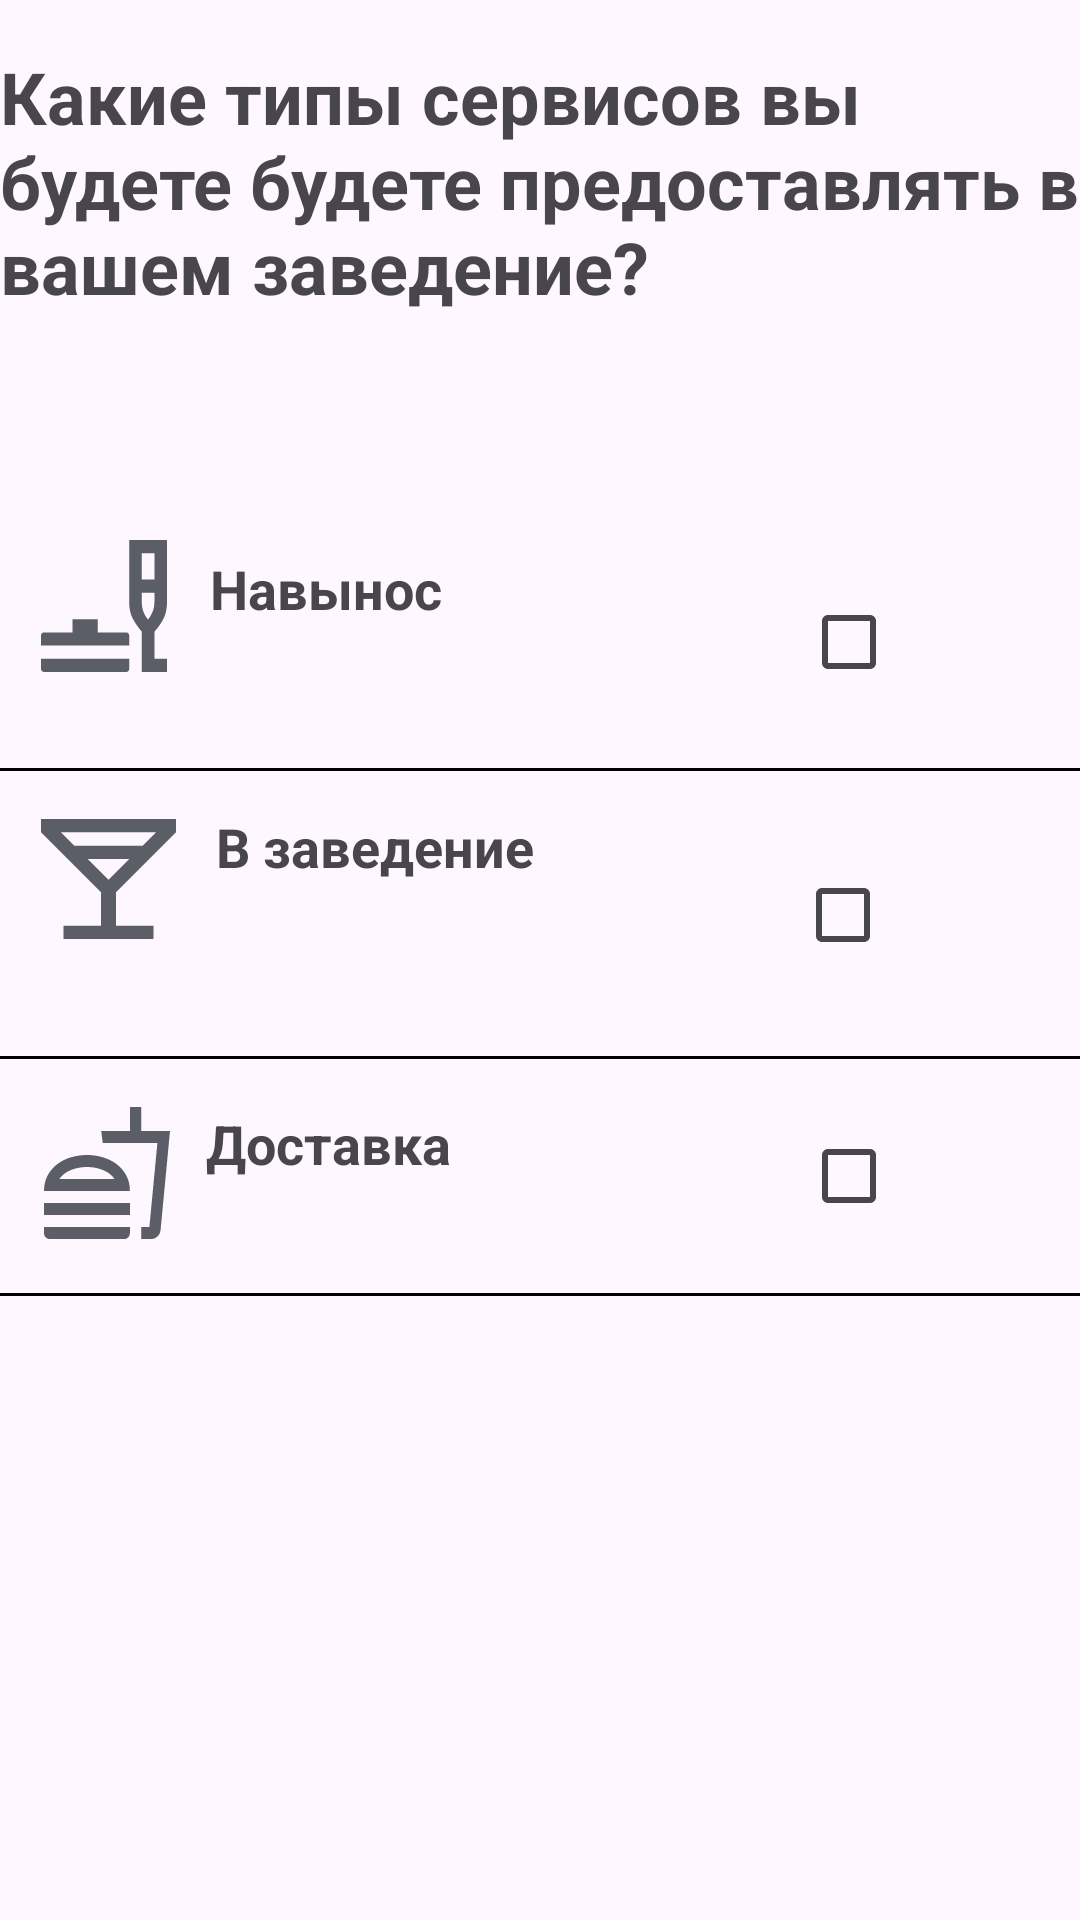

Point at icon controls on the screen. Image size 1080px x 1920px, points as [x,y].
bar: [108,879]
rest: [104,606]
